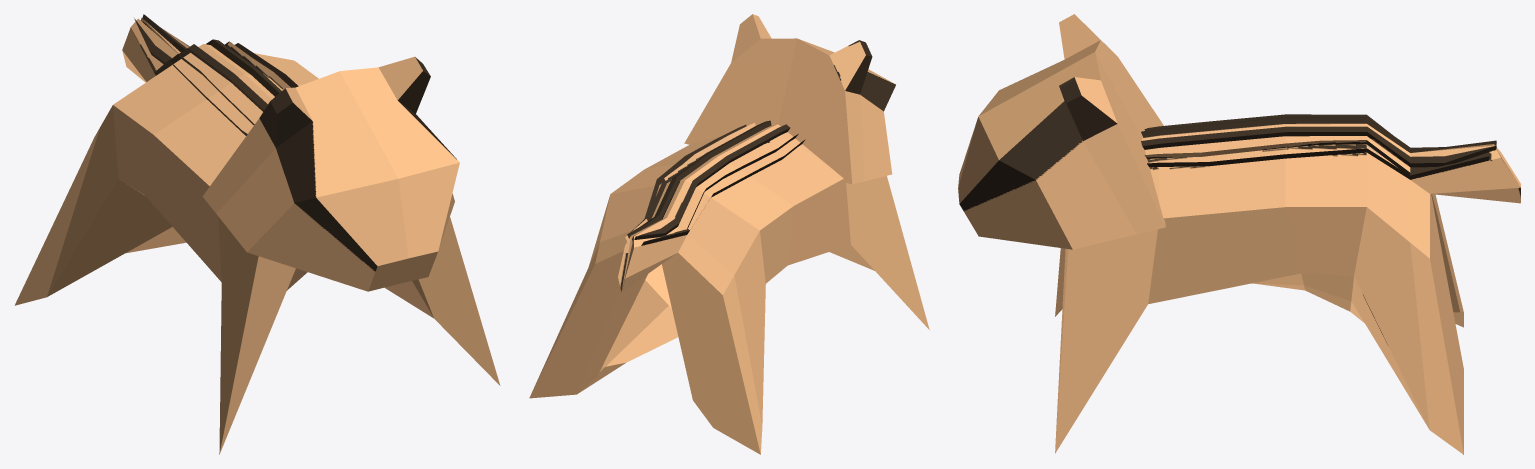
Rendered from chip.glb.
The picture shows the model from 3 angles, left to right: view 1: azimuth 30°, elevation 25°; view 2: azimuth 150°, elevation 25°; view 3: azimuth 270°, elevation 25°; orthographic projection. The views are drawn at different scales.
Visible parts, largest first — view 1: Body; view 2: Body; view 3: Body.
Boxes of the visible parts, <box> form: Body: <box>14,14,500,454</box>; Body: <box>529,14,929,454</box>; Body: <box>958,14,1520,454</box>.
Size of the model in its own units: 1.08 by 1.26 by 1.89.
Materials: 1 (1 with a texture image).
